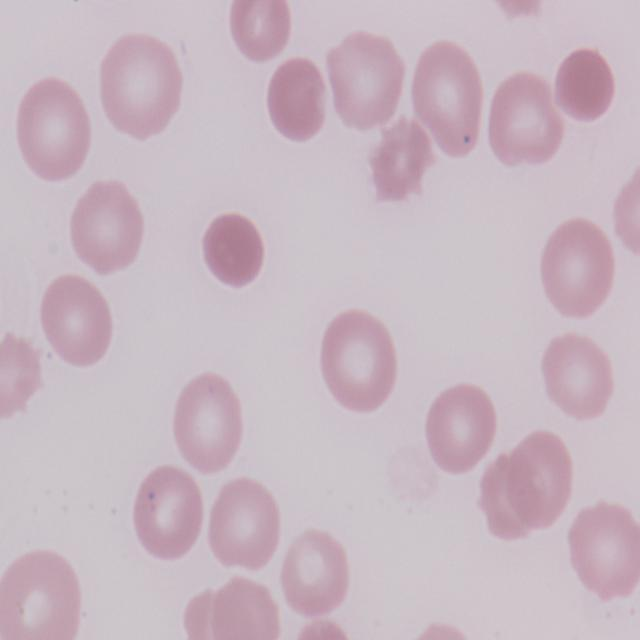RBC: (94, 34, 183, 144), (408, 40, 488, 159), (326, 32, 408, 138), (538, 216, 618, 324), (322, 305, 401, 413), (14, 76, 93, 184), (482, 71, 566, 171), (168, 368, 246, 474), (204, 472, 284, 574), (0, 546, 86, 640), (38, 272, 118, 372), (66, 177, 144, 278), (565, 500, 640, 604), (126, 464, 204, 562), (540, 330, 618, 426), (422, 381, 499, 478), (276, 524, 350, 622), (224, 0, 290, 64), (0, 330, 42, 426), (610, 157, 640, 260), (404, 616, 486, 640)
Spherocyte: (263, 55, 328, 144), (198, 210, 265, 291), (551, 48, 617, 128), (290, 614, 352, 640)
